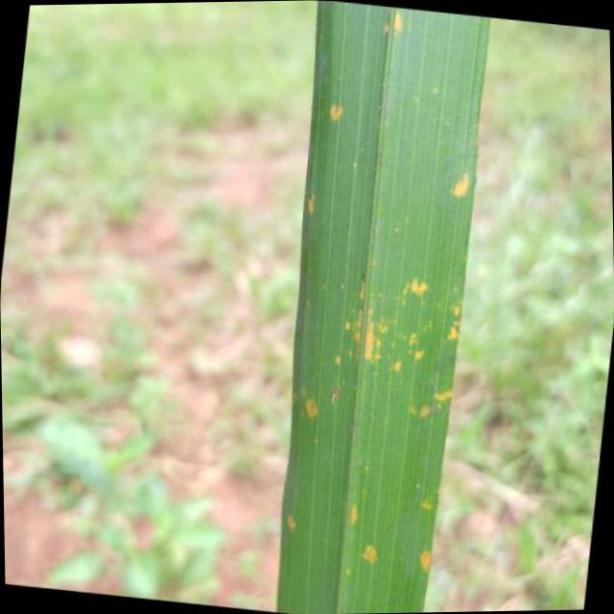Kalium: (278, 0, 491, 614)
